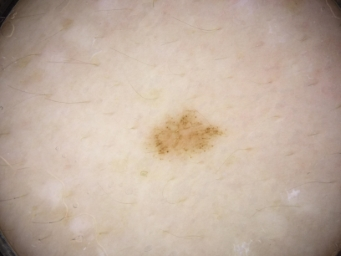nevus: (153, 118, 223, 155)
